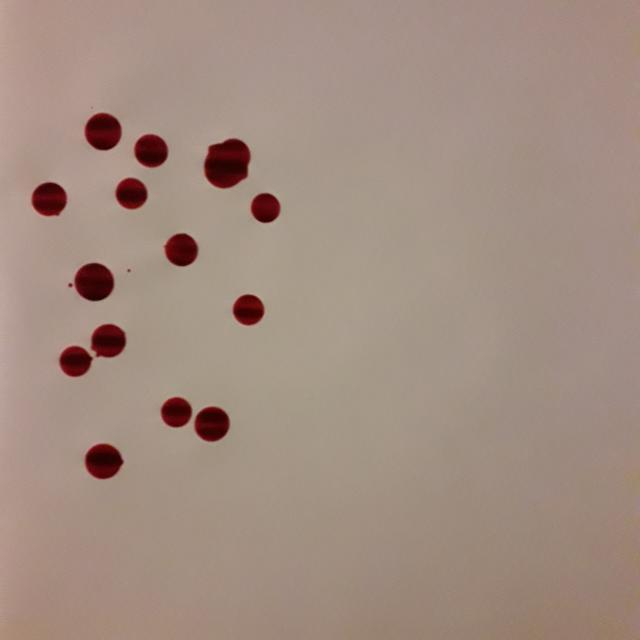wound: (146, 382, 248, 452), (195, 119, 262, 204), (66, 428, 142, 496), (74, 96, 134, 169), (63, 252, 127, 316), (93, 168, 165, 222), (232, 182, 298, 233), (214, 290, 278, 337), (146, 230, 213, 274), (81, 317, 140, 362), (130, 119, 174, 177), (24, 176, 76, 224), (52, 338, 98, 390)
